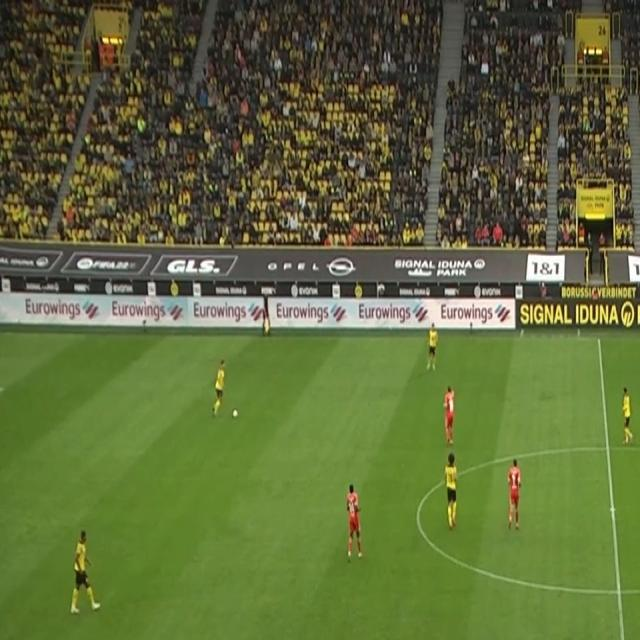ball: (232, 407, 239, 420)
